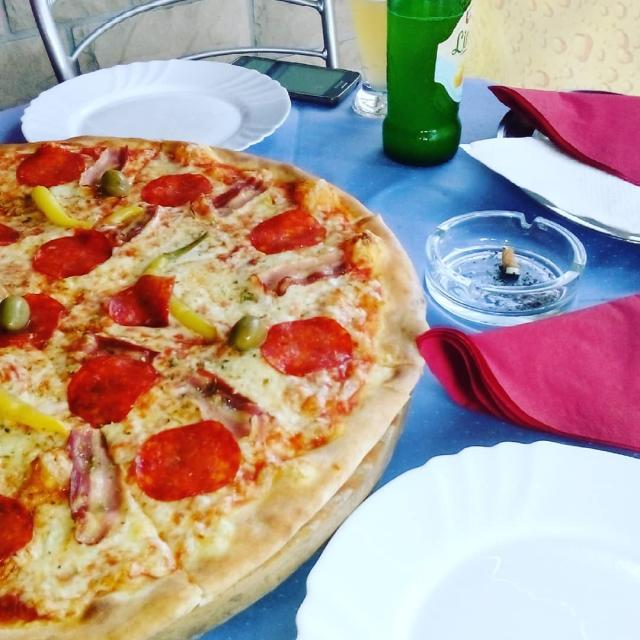green_olives: (228, 315, 268, 351), (0, 294, 30, 332), (101, 169, 131, 197)
pepperoni: (135, 420, 241, 501), (68, 355, 158, 427), (69, 425, 120, 544), (262, 316, 352, 376), (32, 228, 112, 278), (108, 275, 175, 327), (255, 208, 326, 254), (16, 145, 85, 187), (14, 294, 65, 349), (142, 174, 212, 207)
pizza: (0, 136, 426, 639)
